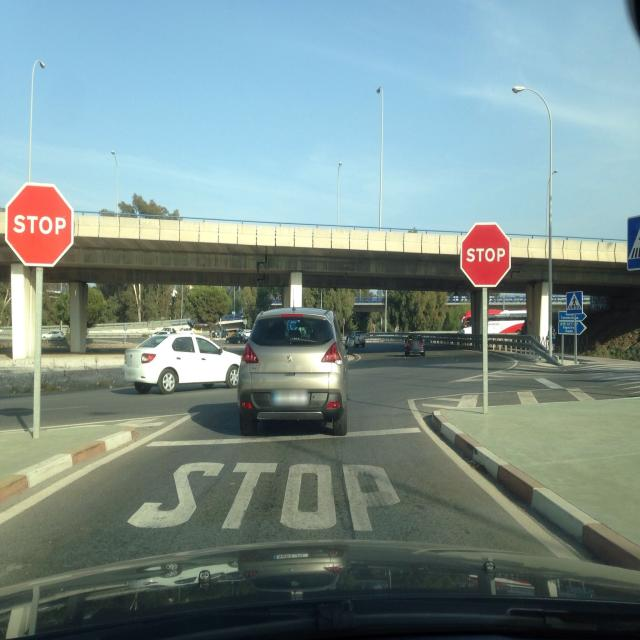car: (237, 306, 350, 436), (123, 332, 242, 394), (350, 331, 366, 347)
